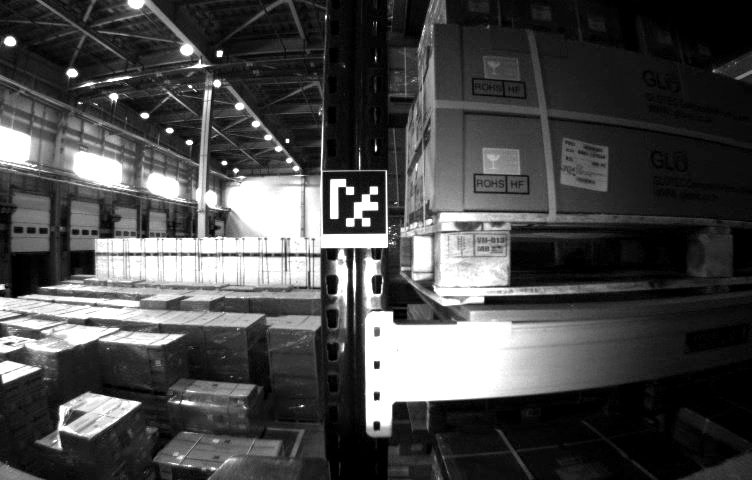True Barcode: (563, 136, 612, 193)
